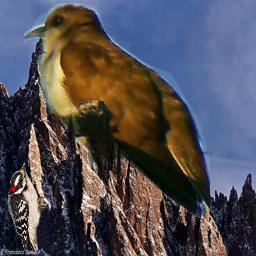Cuckoo: (24, 3, 210, 222)
Woodpecker: (8, 163, 49, 251)
